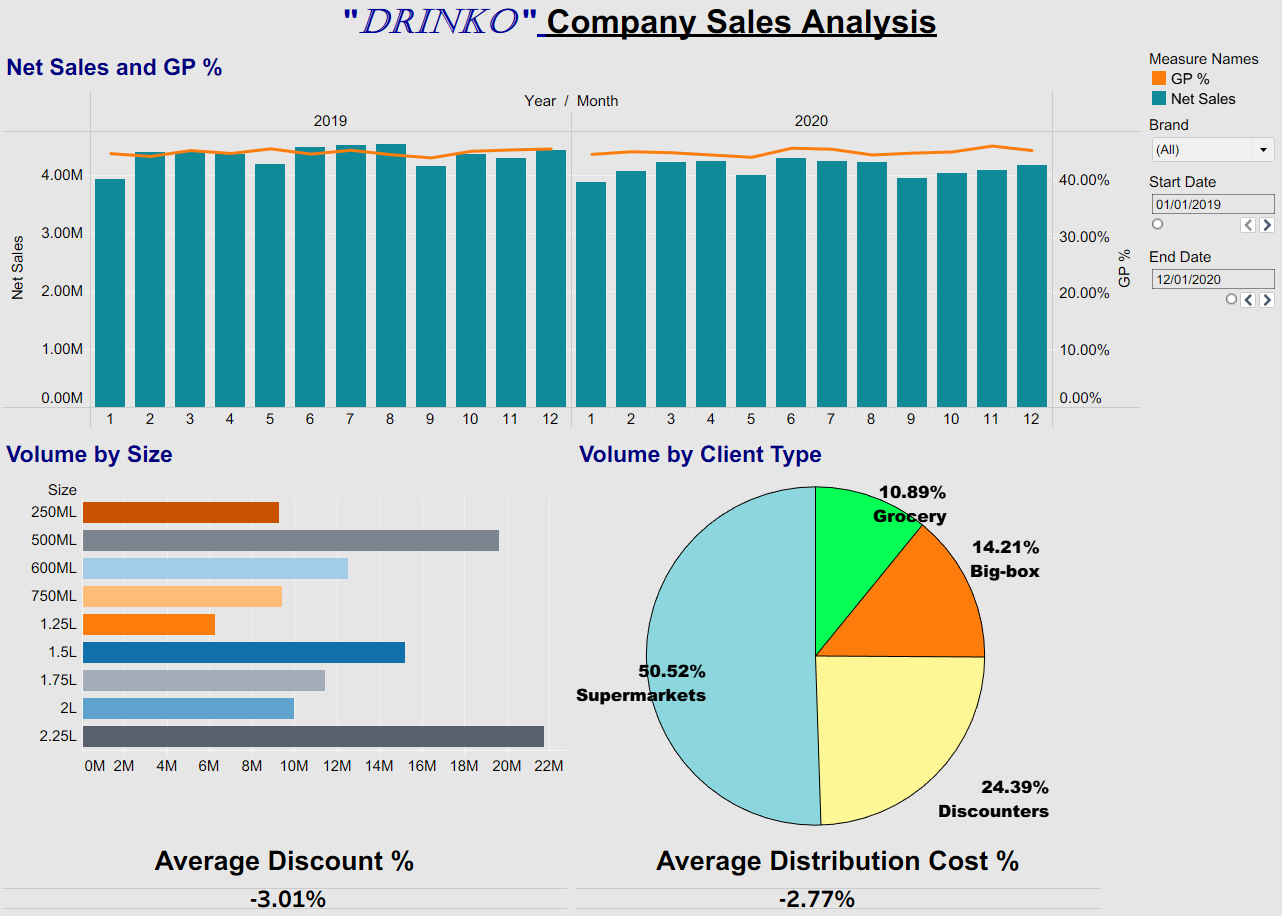

Layout of this report page (visuals, bound fields, positions):
{"tool":"tableau","page":{"name":"Dashboard","canvas":[1300,950],"ordinal":0},"visuals":[{"type":"title","box":[8,8,1284,48]},{"type":"worksheet","title":"Net Sales and GP %","mark":"Automatic","rows":["Net Sales","Calculation_0372759718129668"],"cols":["Year","Month"],"box":[8,56,1147,387]},{"type":"legend","title":"Net Sales and GP %","param":"[federated.167apcc0puekpz1bvdx91047znqg].[:Measure Names]","box":[1155,56,137,66]},{"type":"filter","title":"Net Sales and GP %","param":"[federated.167apcc0puekpz1bvdx91047znqg].[none:Brand:nk]","box":[1155,122,137,57]},{"type":"parameter","param":"[Parameters].[Parameter 1]","box":[1155,179,137,75]},{"type":"parameter","param":"[Parameters].[Parameter 2]","box":[1155,254,137,75]},{"type":"worksheet","title":"Volume by Size","mark":"Bar","rows":["Size"],"cols":["Volume"],"box":[8,443,573.5,405]},{"type":"worksheet","title":"Volume by Client Type","mark":"Pie","box":[581.5,443,573.5,405]},{"type":"worksheet","title":"Average Discount %","mark":"Polygon","rows":["Calculation_0372759728574470"],"box":[8,848,573.5,94]},{"type":"worksheet","title":"Average Distribution Cost %","mark":"Polygon","rows":["Calculation_0372759731113991"],"box":[581.5,848,573.5,94]}]}

Visuals, with their boxes in screenshot pixels (x1, y1, x2, y2), scaled from the page's 1300x950 canvas onto the 1284x916 screenshot:
title: (8,8,1276,54)
"Net Sales and GP %" worksheet: (8,54,1141,427)
"Net Sales and GP %" legend: (1141,54,1276,118)
"Net Sales and GP %" filter: (1141,118,1276,173)
parameter: (1141,173,1276,245)
parameter: (1141,245,1276,317)
"Volume by Size" worksheet (Bar marks): (8,427,574,818)
"Volume by Client Type" worksheet (Pie marks): (574,427,1141,818)
"Average Discount %" worksheet (Polygon marks): (8,818,574,908)
"Average Distribution Cost %" worksheet (Polygon marks): (574,818,1141,908)
